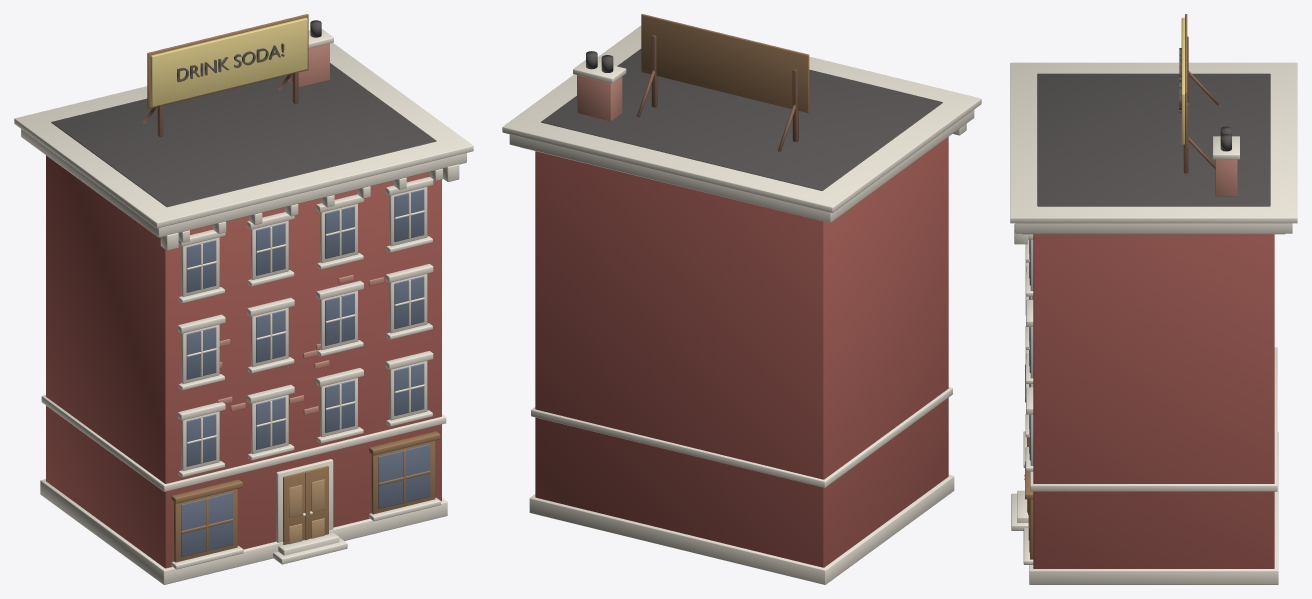
File: edificio_09a.glb
The picture shows the model from 3 angles, left to right: view 1: azimuth 30°, elevation 25°; view 2: azimuth 150°, elevation 25°; view 3: azimuth 270°, elevation 25°; orthographic projection. The views are drawn at different scales.
Visible parts, largest first — view 1: corpo, tetto, cornicione_corona, cart_pannello, zoccolo, cornicione_fascia, fascia_pt, vetrina_vetro_R, vetrina_vetro_L, fin_p1_2_vetro, fin_p2_2_vetro, fin_p1_0_vetro (+33 smaller); view 2: corpo, tetto, cornicione_corona, cart_cornice, zoccolo, cornicione_fascia, fascia_pt, comignolo_fusto, comignolo_cappello; view 3: corpo, tetto, cornicione_corona, zoccolo, cornicione_fascia, fascia_pt, comignolo_fusto, cornicione_gola, comignolo_cappello, cart_pannello, cart_cornice.
Part boxes in pixels (x1=…): corpo: x1=46, y1=155, x2=441, y2=568; tetto: x1=51, y1=63, x2=436, y2=207; cornicione_corona: x1=14, y1=42, x2=473, y2=228; cart_pannello: x1=150, y1=17, x2=307, y2=106; zoccolo: x1=40, y1=479, x2=447, y2=584; cornicione_fascia: x1=21, y1=129, x2=466, y2=237; fascia_pt: x1=41, y1=395, x2=446, y2=491; vetrina_vetro_R: x1=378, y1=444, x2=430, y2=508; vetrina_vetro_L: x1=181, y1=492, x2=232, y2=557; fin_p1_2_vetro: x1=325, y1=380, x2=354, y2=432; fin_p2_2_vetro: x1=325, y1=293, x2=354, y2=345; fin_p1_0_vetro: x1=186, y1=414, x2=216, y2=466; corpo: x1=535, y1=137, x2=948, y2=567; tetto: x1=541, y1=49, x2=942, y2=190; cornicione_corona: x1=502, y1=25, x2=981, y2=212; cart_cornice: x1=641, y1=14, x2=809, y2=112; zoccolo: x1=529, y1=474, x2=954, y2=584; cornicione_fascia: x1=509, y1=110, x2=974, y2=222; fascia_pt: x1=531, y1=387, x2=952, y2=487; comignolo_fusto: x1=577, y1=75, x2=622, y2=121; comignolo_cappello: x1=573, y1=60, x2=626, y2=83; corpo: x1=1033, y1=234, x2=1274, y2=568; tetto: x1=1037, y1=73, x2=1270, y2=206; cornicione_corona: x1=1010, y1=62, x2=1297, y2=223; zoccolo: x1=1029, y1=432, x2=1278, y2=584; cornicione_fascia: x1=1015, y1=223, x2=1292, y2=233; fascia_pt: x1=1030, y1=347, x2=1277, y2=491; comignolo_fusto: x1=1215, y1=159, x2=1237, y2=196; cornicione_gola: x1=1022, y1=233, x2=1285, y2=234; comignolo_cappello: x1=1212, y1=136, x2=1239, y2=159; cart_pannello: x1=1181, y1=17, x2=1184, y2=144; cart_cornice: x1=1185, y1=14, x2=1187, y2=148.
Bounding box in the file's own units: 9.15 × 12.69 × 7.15.
